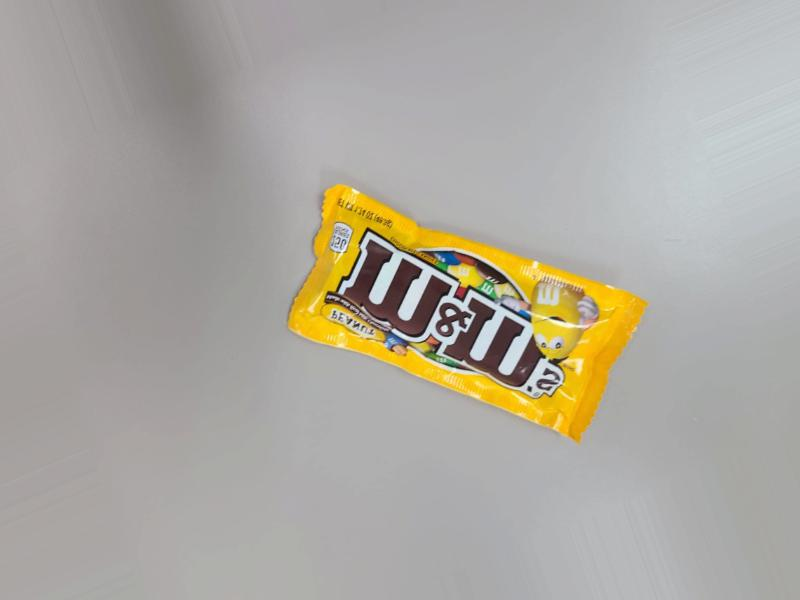m&m: (303, 164, 675, 422)
